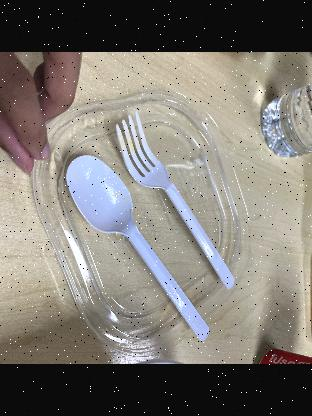Others: (66, 146, 218, 350), (113, 107, 243, 287)
